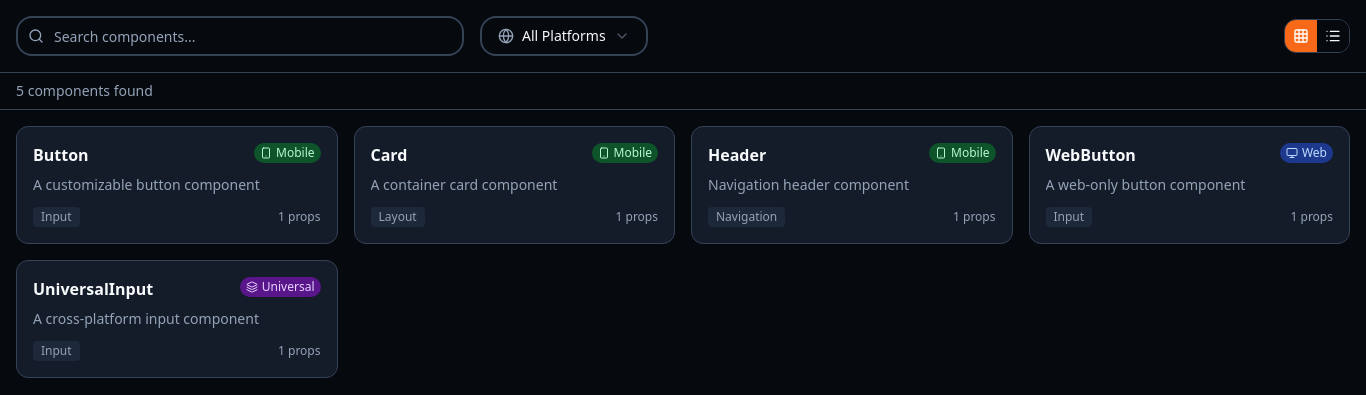
Scenario: ComponentGallery › filters by component description
This screenshot has width=1366, height=395.
Type "container" into the field with placeholder "Search components..." at coordinates (240, 36), box [16,16,464,56]
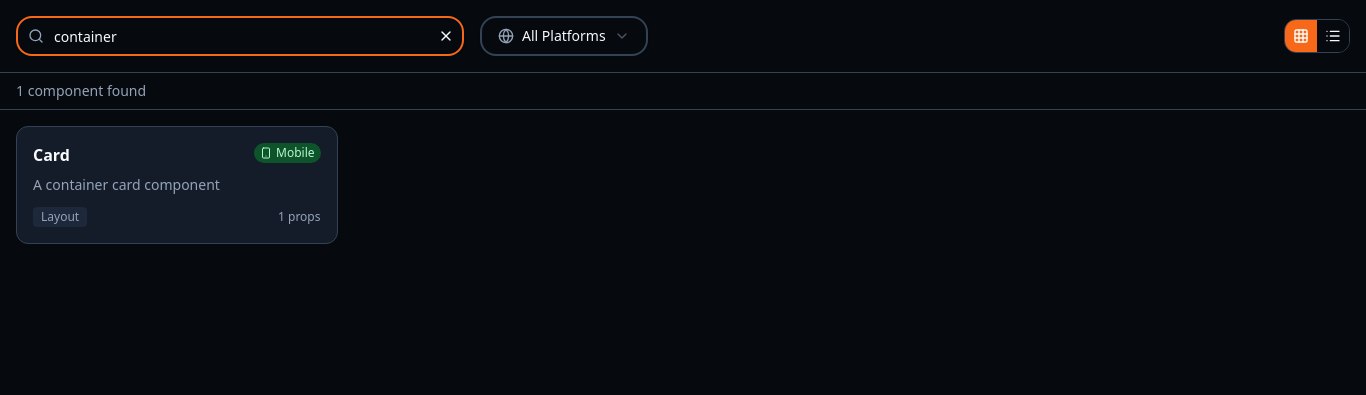
Expected: the heading "Card" is shown, [33,143,70,167]
Now the button "Button" is gone
